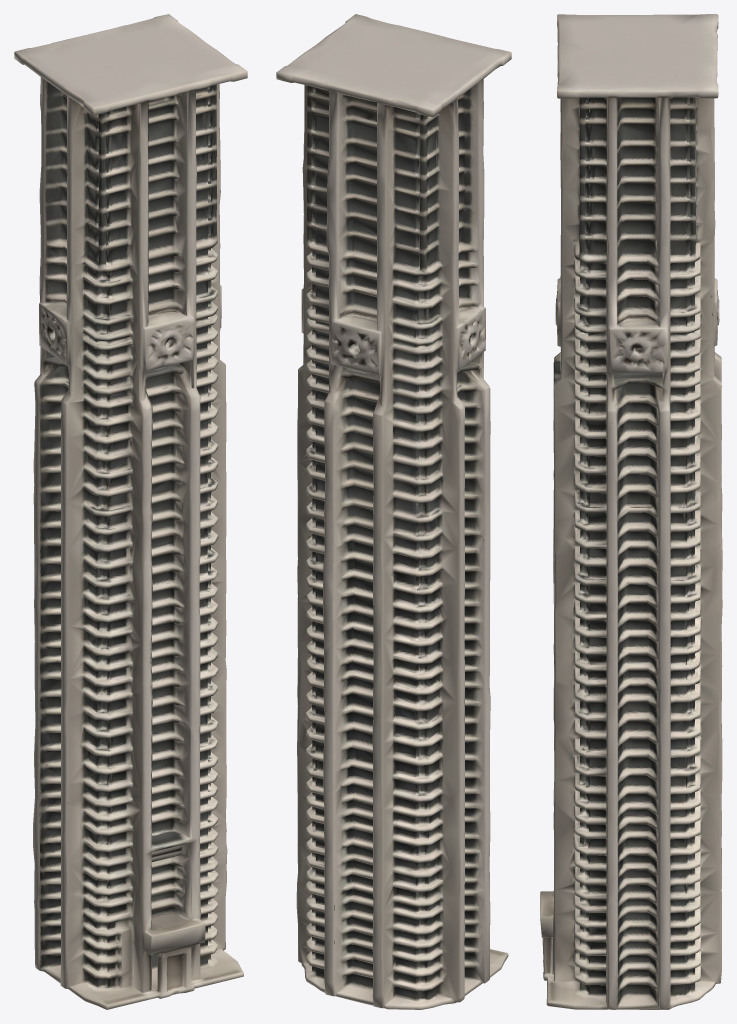
Rendered from TowerModel.fbx.
The picture shows the model from 3 angles, left to right: view 1: azimuth 30°, elevation 25°; view 2: azimuth 150°, elevation 25°; view 3: azimuth 270°, elevation 25°; orthographic projection. The views are drawn at different scales.
Parts seen in each view (by area): view 1: tripo_node_1012ec88; view 2: tripo_node_1012ec88; view 3: tripo_node_1012ec88.
Boxes of the visible parts, box(x1,y1,x2,y2) form: tripo_node_1012ec88: box(14, 14, 247, 1009); tripo_node_1012ec88: box(276, 14, 511, 1009); tripo_node_1012ec88: box(540, 14, 722, 1009).
Size of the model in its own units: 0.1908 by 0.9999 by 0.1797.
